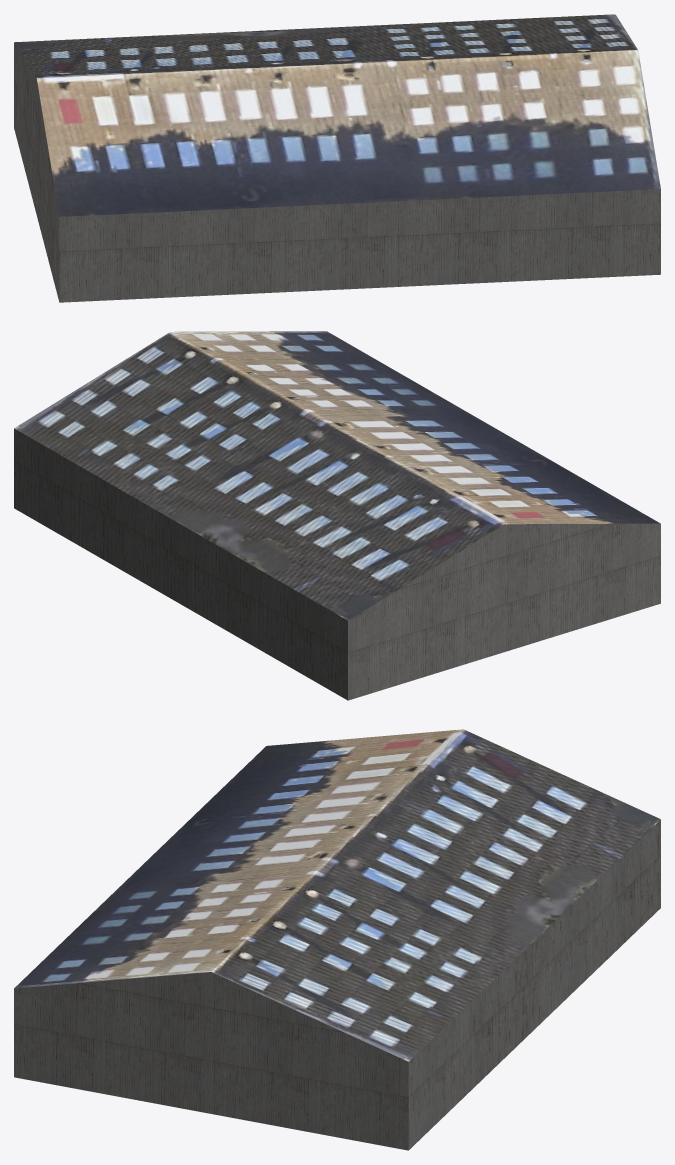
File: hangarMaarch5.dae
3 views of the same model, one above another, from view 1: azimuth 30°, elevation 25°; view 2: azimuth 150°, elevation 25°; view 3: azimuth 270°, elevation 25° (orthographic). The views are drawn at different scales.
Visible parts, largest first — view 1: SketchUp (×2); view 2: SketchUp (×2); view 3: SketchUp (×2).
Boxes of the visible parts, x1,y1,x2,y2 form: SketchUp (×2): (14, 14, 660, 302); SketchUp (×2): (14, 331, 660, 700); SketchUp (×2): (14, 729, 660, 1150).
Size of the model in its own units: 1502 by 1300 by 315.
Materials: 3 (2 with a texture image).
